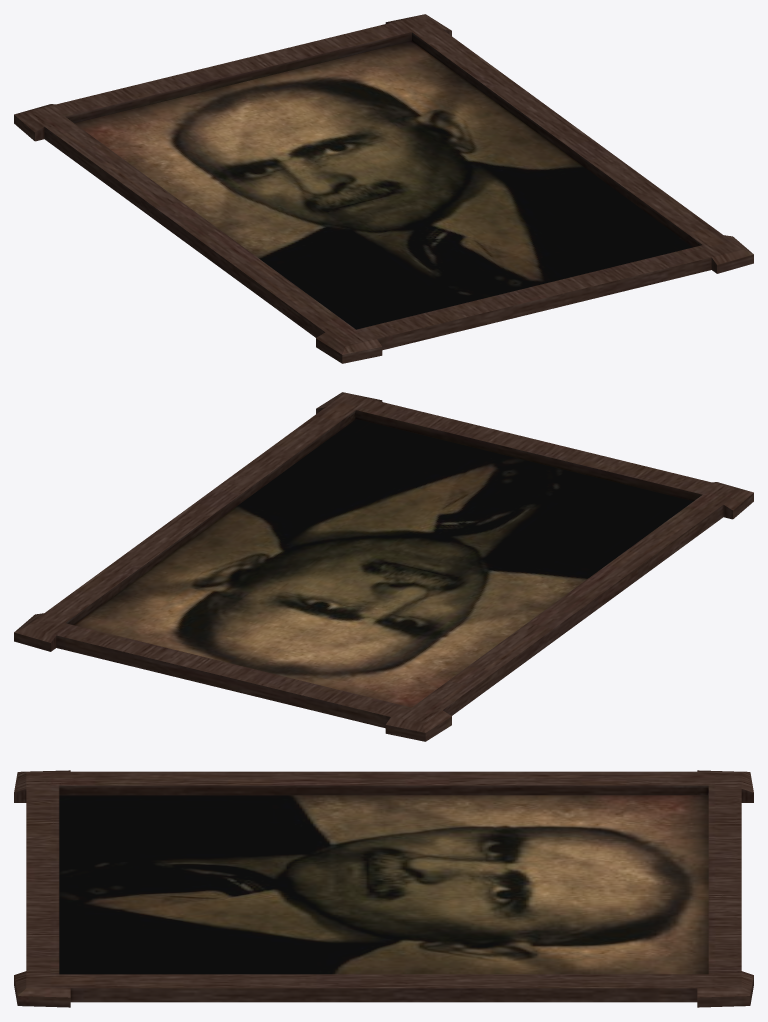
File: SM_Frame.fbx
The picture shows the model from 3 angles, top to bottom: view 1: azimuth 30°, elevation 25°; view 2: azimuth 150°, elevation 25°; view 3: azimuth 270°, elevation 25°; orthographic projection. The views are drawn at different scales.
Visible parts, largest first — view 1: Frame; view 2: Frame; view 3: Frame.
Part boxes in pixels (x1,y1,x2,y2): Frame: [14, 14, 753, 363]; Frame: [14, 392, 753, 741]; Frame: [14, 770, 753, 1007].
Bounding box in the file's own units: 110 × 3.15 × 151.
